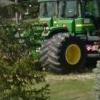Tractor: (14, 3, 100, 81)
